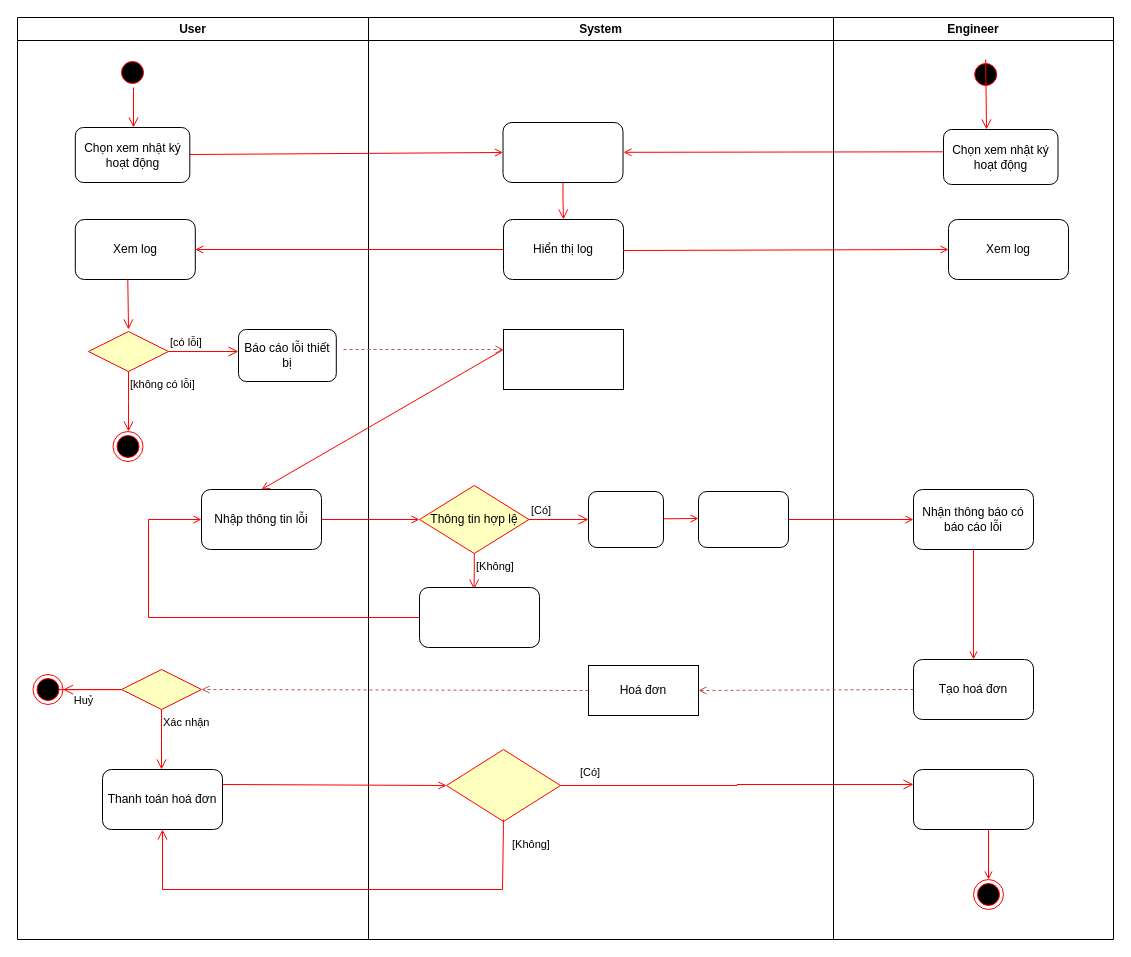
The diagram is 1131 pixels wide and 957 high, and some of its shapes have lost their labels. Here are the shapes that lost their labels. From the top down, the centre of each, then its label:
At point (562, 152): "Tìm kiếm log tương ứng".
At point (563, 359): "Biểu mẫu nhập thông tin lỗi".
At point (626, 519): "Lưu biểu mẫu".
At point (743, 519): "Gửi biểu mẫu".
At point (479, 617): "Báo lỗi thông tin không hợp lệ".
At point (503, 785): "Hoá đơn hợp lệ".
At point (973, 799): "Nhận thông báo thanh toán thành công".
